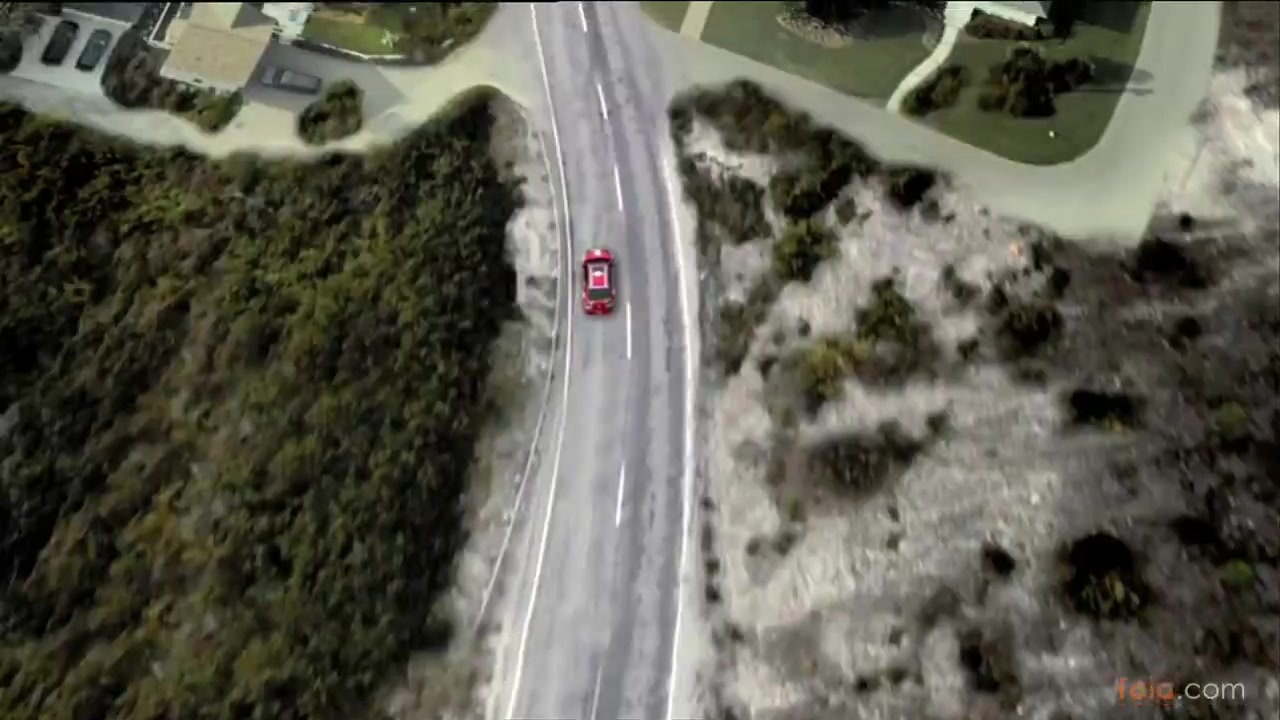car: (577, 246, 622, 321)
